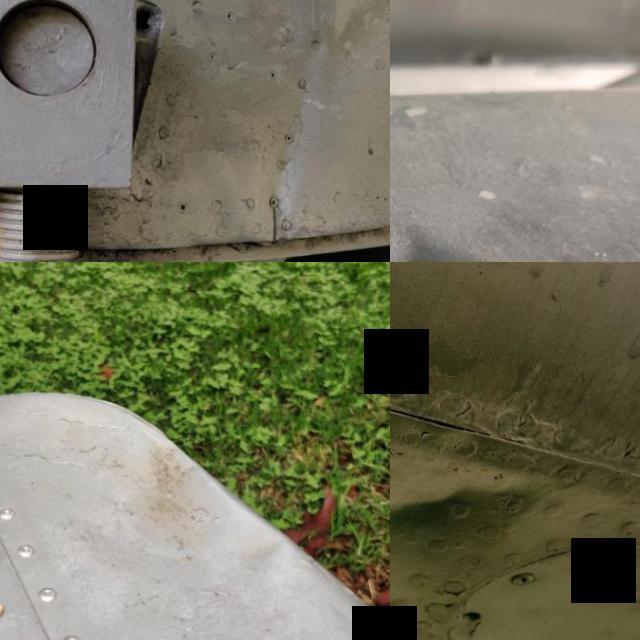Crack: (261, 195, 296, 247)
Dent: (390, 437, 543, 580), (196, 496, 306, 606)
Missing_Fastener: (447, 594, 498, 638)
